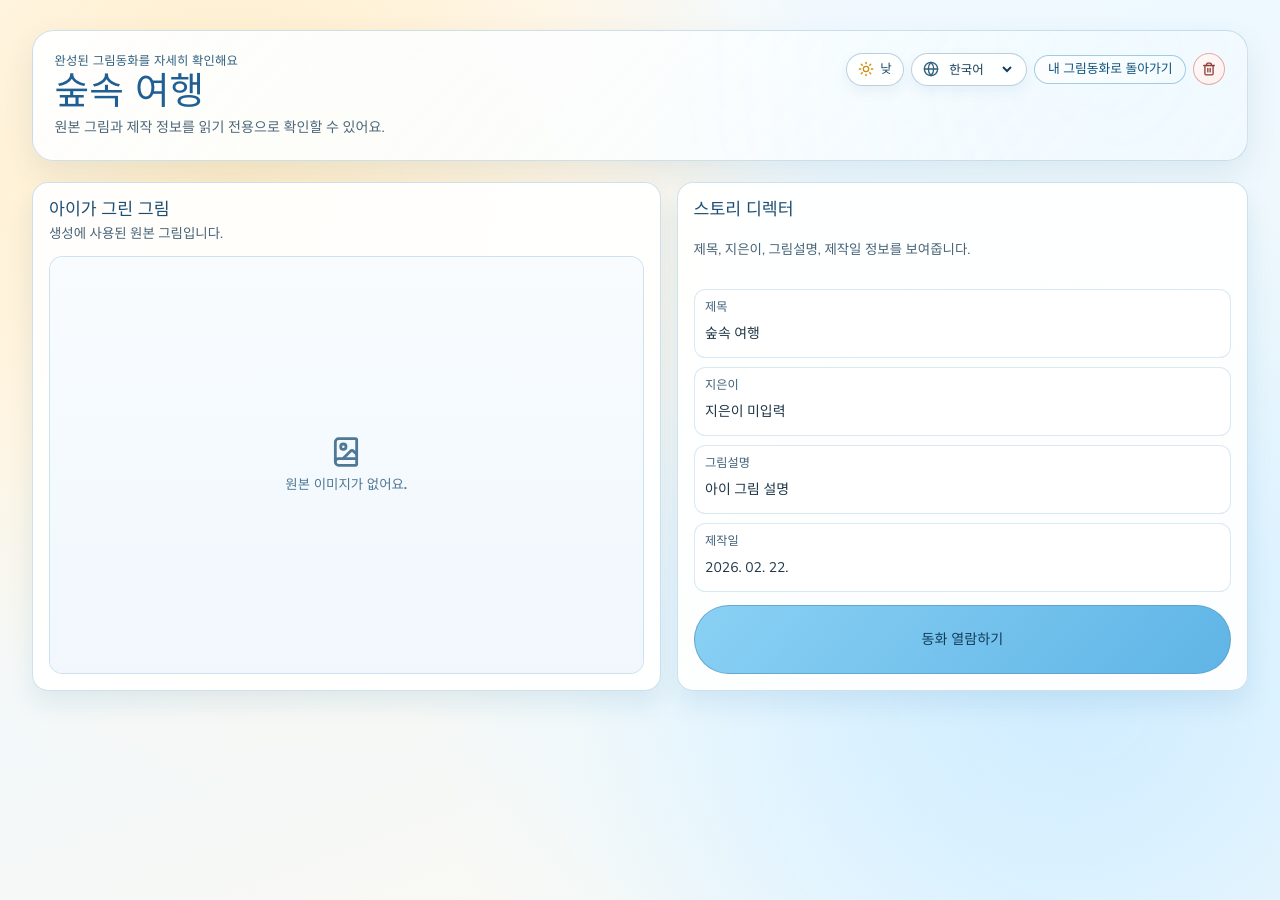
Test: StorybookDetailPage › 동화 열람하기 버튼 클릭 시 eBook 다이얼로그를 연다
The image size is (1280, 900).
Check: the heading "숲속 여행" is shown, box [55,74,204,112]
Click the button "동화 열람하기" at (962, 640), box [694,605,1231,674]
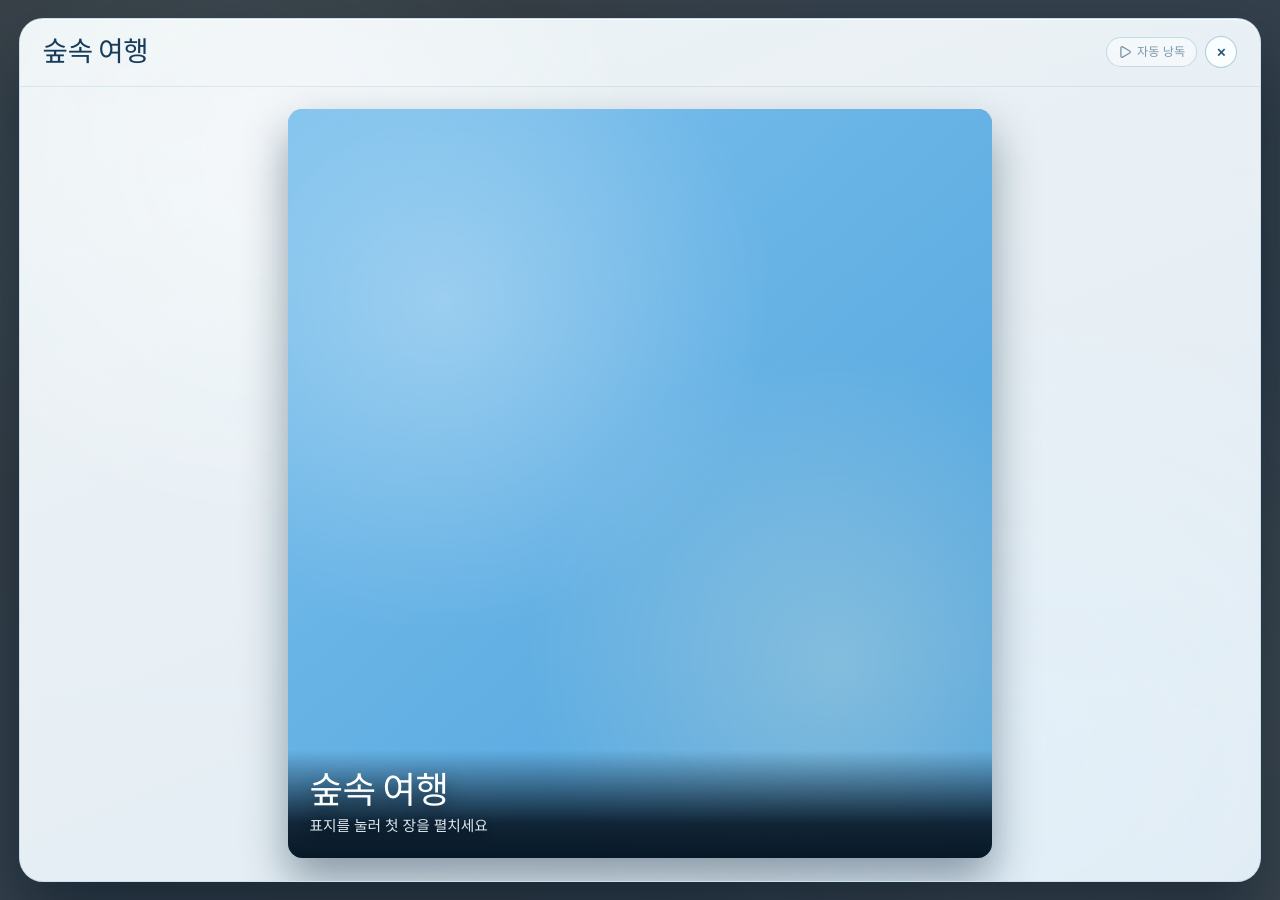
Check: the dialog named "생성된 동화책: 숲속 여행" is shown
